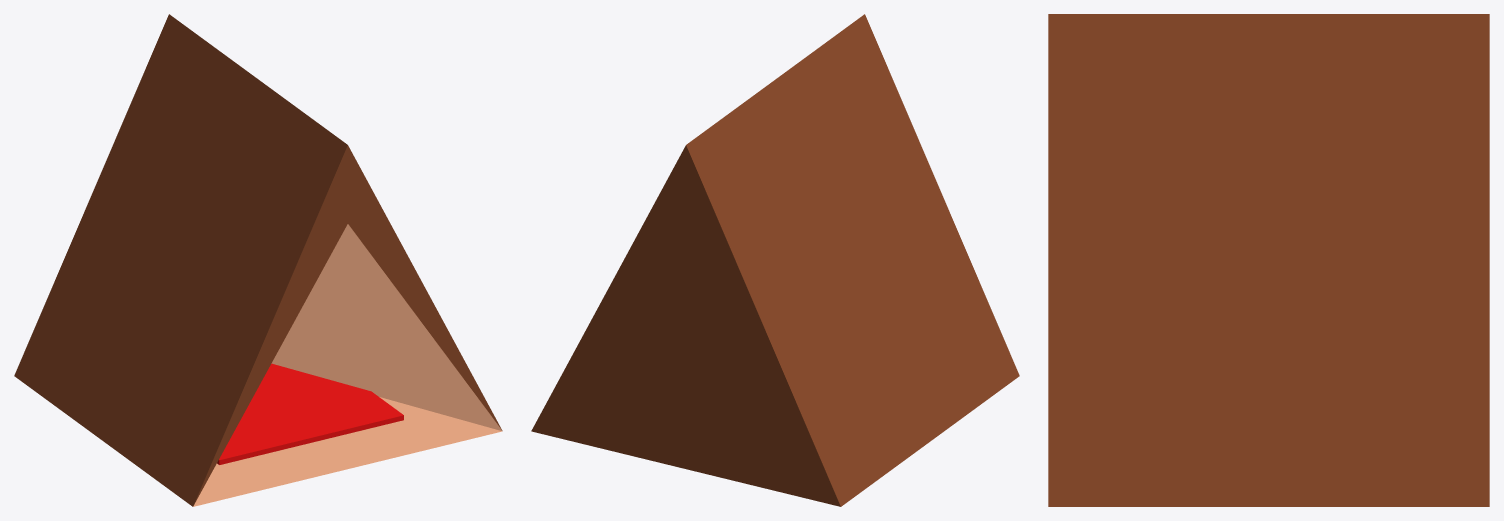
File: CARPA.fbx
3 renders of one model, left to right at view 1: azimuth 30°, elevation 25°; view 2: azimuth 150°, elevation 25°; view 3: azimuth 270°, elevation 25°, orthographic. The views are drawn at different scales.
Visible parts, largest first — view 1: Cube; view 2: Cube; view 3: Cube.
Part boxes in pixels (<box>): Cube: <box>14,14,502,506</box>; Cube: <box>531,14,1019,506</box>; Cube: <box>1048,14,1489,506</box>.
Size of the model in its own units: 972 by 972 by 972.
1 material, 1 textured.
